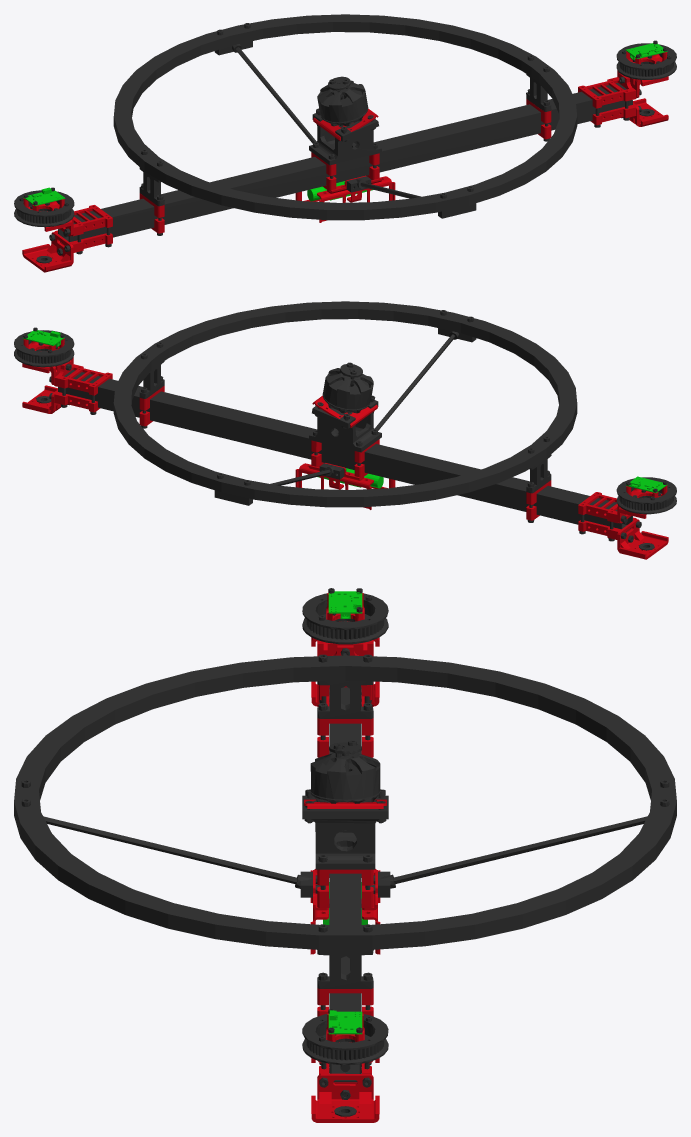
File: tilt_10deg_link2.dae
3 views of the same model, one above another, from view 1: azimuth 30°, elevation 25°; view 2: azimuth 150°, elevation 25°; view 3: azimuth 270°, elevation 25° (orthographic). The views are drawn at different scales.
Visible parts, largest first — view 1: tilt_10deg_link2_black_part, tilt_link2_red_part, link2_green_part; view 2: tilt_10deg_link2_black_part, tilt_link2_red_part, link2_green_part; view 3: tilt_10deg_link2_black_part, tilt_link2_red_part, link2_green_part.
Part boxes in pixels (box(x1,y1,x2,y2)): tilt_10deg_link2_black_part: box(14, 14, 676, 263); tilt_link2_red_part: box(22, 51, 668, 272); link2_green_part: box(23, 43, 667, 205); tilt_10deg_link2_black_part: box(14, 301, 676, 550); tilt_link2_red_part: box(22, 338, 668, 559); link2_green_part: box(23, 330, 667, 492); tilt_10deg_link2_black_part: box(14, 588, 676, 1116); tilt_link2_red_part: box(304, 593, 386, 1122); link2_green_part: box(323, 591, 367, 1034).
Size of the model in its own units: 0.6521 by 0.3997 by 0.1211.
